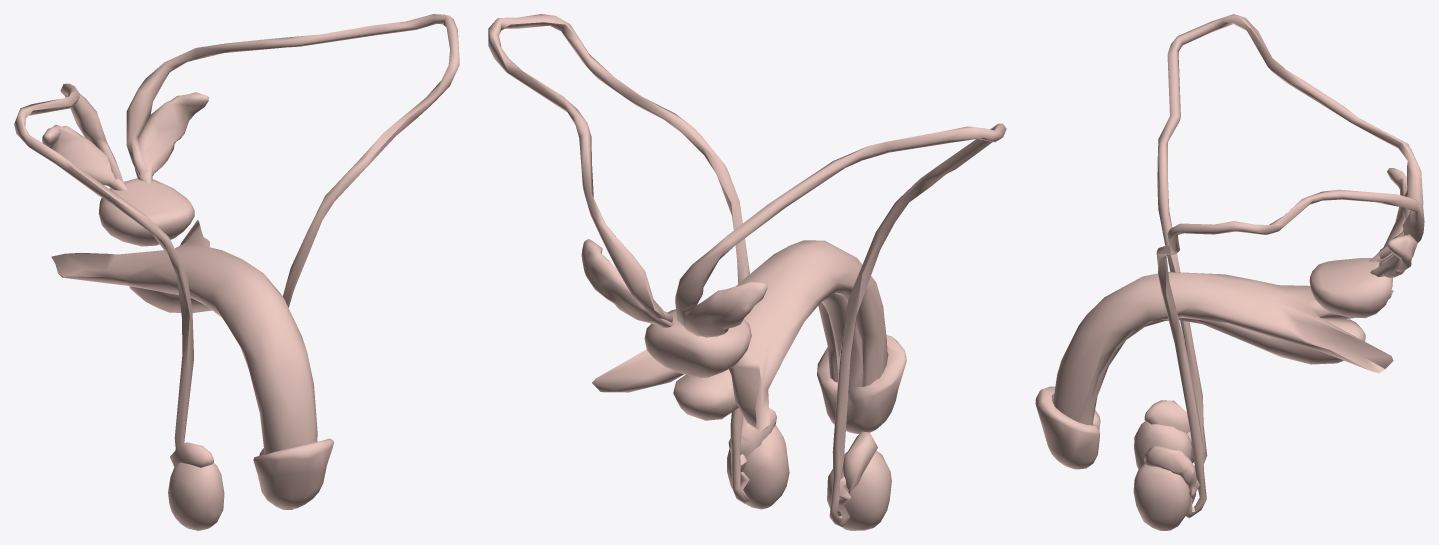
File: body-repro.glb
3 views of the same model, side by side, from view 1: azimuth 30°, elevation 25°; view 2: azimuth 150°, elevation 25°; view 3: azimuth 270°, elevation 25° (orthographic). The views are drawn at different scales.
Parts seen in each view (by area): view 1: FJ3132, FJ3135, FJ3140, FJ3139, FJ3134, FJ3142, FJ3137, FJ3143, FJ3133, FJ3141; view 2: FJ3132, FJ3140, FJ3135, FJ3139, FJ3133, FJ3134, FJ3138, FJ3143, FJ3142, FJ3137, FJ3141, FJ3136; view 3: FJ3132, FJ3140, FJ3135, FJ3139, FJ3134, FJ3133, FJ3138, FJ3142, FJ3136, FJ3137, FJ3141, FJ3143.
Boxes of the visible parts, bbox=[...] form: FJ3132: bbox=[51, 220, 317, 454]; FJ3135: bbox=[126, 14, 459, 307]; FJ3140: bbox=[14, 83, 193, 449]; FJ3139: bbox=[98, 178, 194, 246]; FJ3134: bbox=[253, 438, 333, 508]; FJ3142: bbox=[168, 462, 224, 530]; FJ3137: bbox=[134, 92, 208, 183]; FJ3143: bbox=[42, 124, 127, 190]; FJ3133: bbox=[129, 286, 212, 312]; FJ3141: bbox=[170, 442, 213, 467]; FJ3132: bbox=[592, 240, 887, 431]; FJ3140: bbox=[675, 123, 1006, 526]; FJ3135: bbox=[488, 14, 749, 503]; FJ3139: bbox=[644, 309, 751, 377]; FJ3133: bbox=[673, 293, 862, 420]; FJ3134: bbox=[817, 335, 906, 433]; FJ3138: bbox=[727, 425, 789, 509]; FJ3143: bbox=[684, 281, 767, 337]; FJ3142: bbox=[827, 450, 891, 530]; FJ3137: bbox=[581, 239, 675, 327]; FJ3141: bbox=[843, 431, 877, 494]; FJ3136: bbox=[728, 408, 776, 458]; FJ3132: bbox=[1053, 272, 1393, 425]; FJ3140: bbox=[1157, 14, 1423, 467]; FJ3135: bbox=[1156, 189, 1424, 518]; FJ3139: bbox=[1309, 258, 1392, 318]; FJ3134: bbox=[1035, 386, 1100, 469]; FJ3133: bbox=[1091, 318, 1365, 423]; FJ3138: bbox=[1133, 463, 1189, 530]; FJ3142: bbox=[1134, 421, 1191, 469]; FJ3136: bbox=[1144, 445, 1196, 499]; FJ3137: bbox=[1370, 234, 1417, 277]; FJ3141: bbox=[1144, 400, 1190, 433]; FJ3143: bbox=[1369, 168, 1407, 261].
Size of the model in its own units: 0.1865 by 0.1712 by 0.1482.
